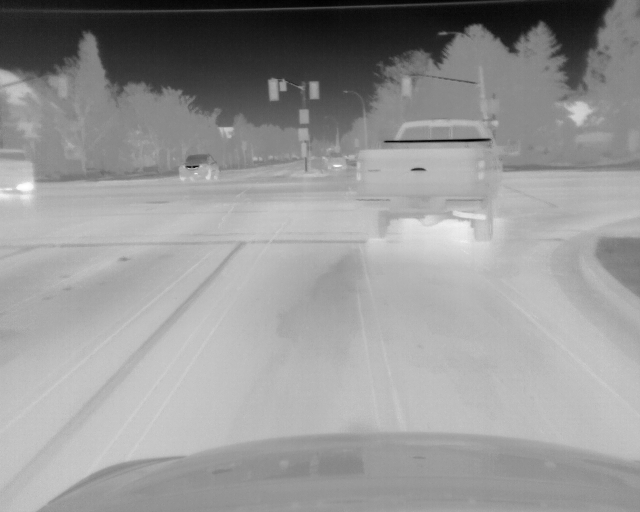car: (353, 117, 504, 244), (1, 148, 35, 203), (178, 153, 220, 183)
